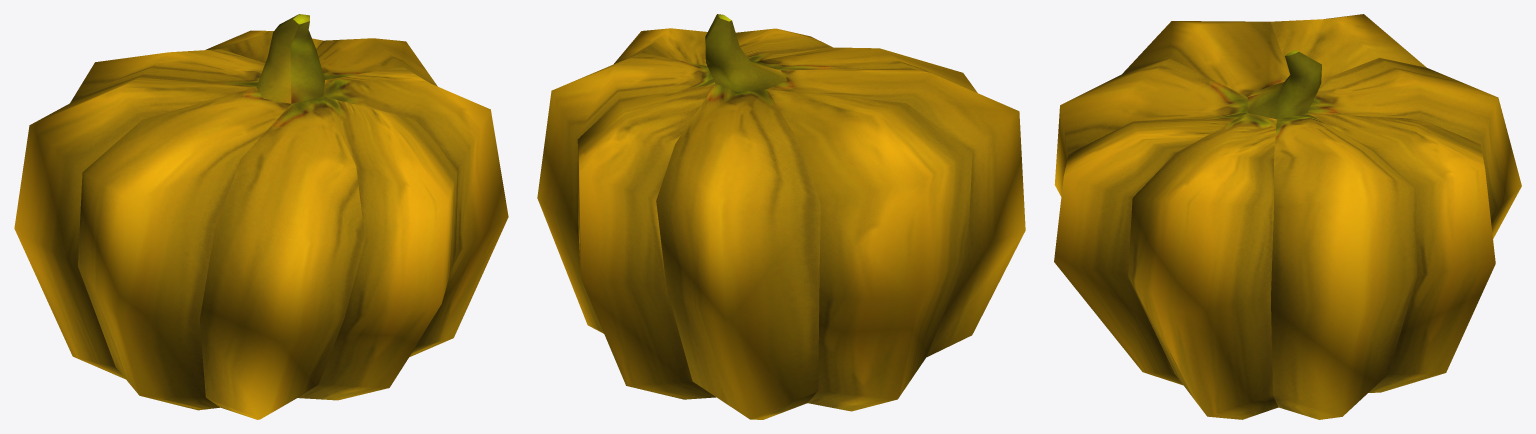
Rendered from ruraltown_pumpking_medium_01.fbx.
3 renders of one model, left to right at view 1: azimuth 30°, elevation 25°; view 2: azimuth 150°, elevation 25°; view 3: azimuth 270°, elevation 25°, orthographic.
Parts seen in each view (by area): view 1: ruraltown_pumpking_medium_01; view 2: ruraltown_pumpking_medium_01; view 3: ruraltown_pumpking_medium_01.
Boxes of the visible parts, bbox=[...] form: ruraltown_pumpking_medium_01: bbox=[14, 14, 508, 419]; ruraltown_pumpking_medium_01: bbox=[537, 14, 1025, 419]; ruraltown_pumpking_medium_01: bbox=[1054, 14, 1521, 419].
Size of the model in its own units: 0.5451 by 0.4626 by 0.5677.
